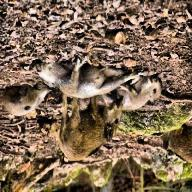boar: (17, 53, 128, 100), (46, 92, 128, 155), (111, 75, 163, 111)
